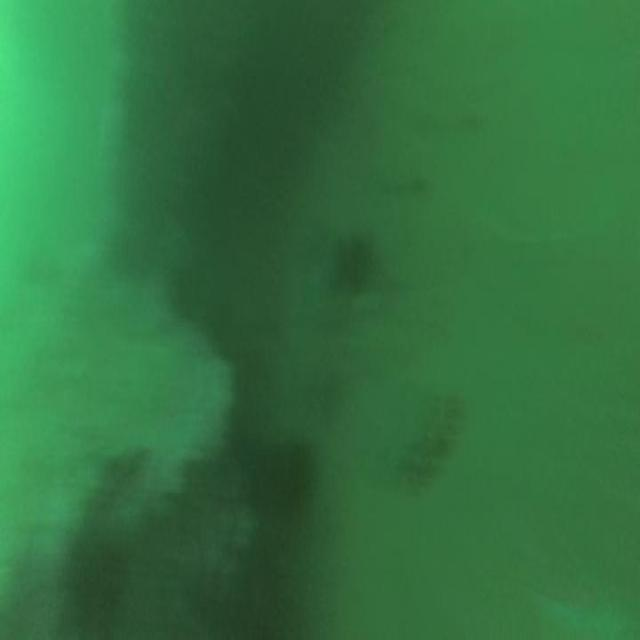holothurian: (396, 378, 470, 501)
